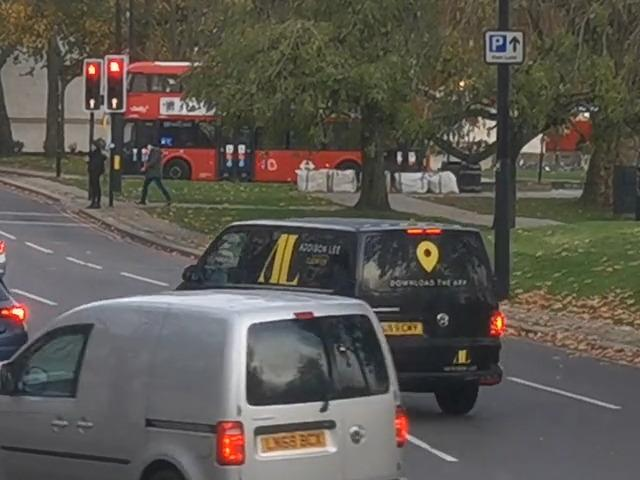car: (0, 298, 407, 480), (196, 223, 511, 377)
